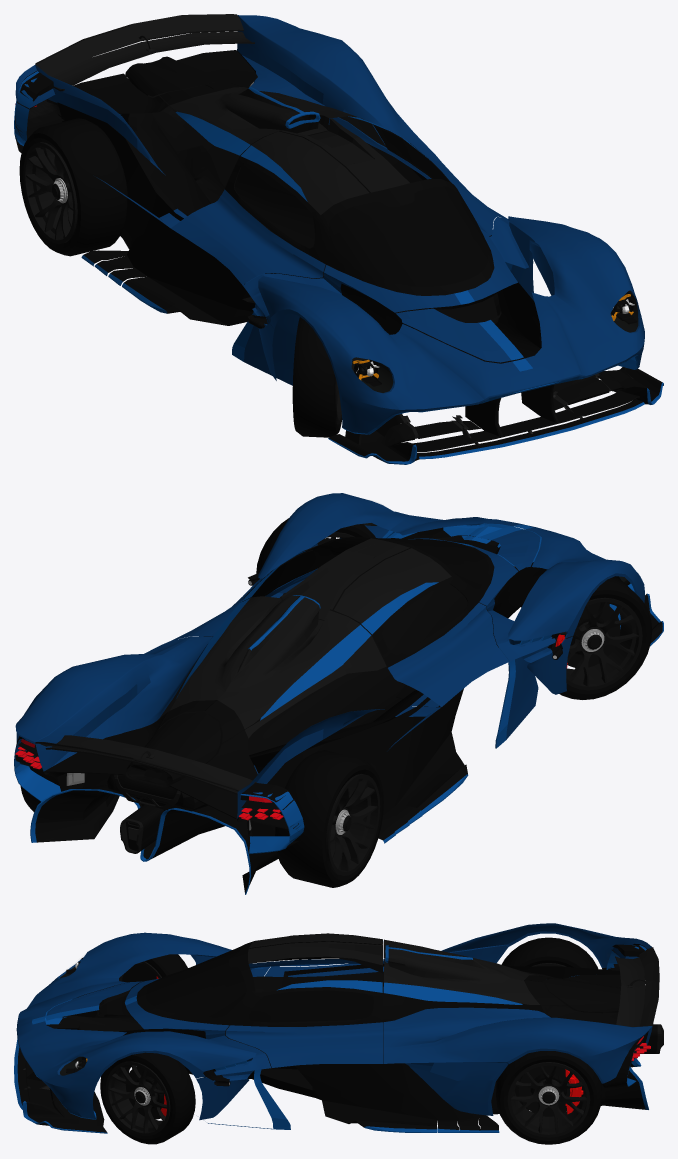
The model's file is aston_martin_valkyrie_free.glb.
3 renders of one model, top to bottom at view 1: azimuth 30°, elevation 25°; view 2: azimuth 150°, elevation 25°; view 3: azimuth 270°, elevation 25°, orthographic. The views are drawn at different scales.
Visible parts, largest first — view 1: Body, Plane.011, Plane.047, Plane.003, RearLeftWheel, Plane.027, Plane.114, Plane.025, Plane.084, Plane.005, Plane.008, Plane.015 (+19 smaller); view 2: Plane.011, Body, Plane.003, Plane.005, Plane.114, RearLeftWheel, Plane.025, Plane.007, Plane.015, Plane.027, Plane.047, Plane.014 (+22 smaller); view 3: Body, Plane.011, Plane.003, Plane.047, Plane.005, Plane.023, Plane.114, Plane.084, FrontRightWheel, Plane.022, RearRightWheel, Plane.027 (+23 smaller).
Part boxes in pixels (box(x1,y1,x2,y2)): Body: box(243, 216, 644, 433); Plane.011: box(57, 81, 541, 363); Plane.047: box(329, 130, 488, 286); Plane.003: box(237, 15, 441, 161); RearLeftWheel: box(19, 118, 127, 256); Plane.027: box(35, 14, 254, 91); Plane.114: box(14, 71, 663, 464); Plane.025: box(171, 189, 325, 285); Plane.084: box(225, 124, 494, 295); Plane.005: box(170, 87, 358, 144); Plane.008: box(329, 367, 662, 461); Plane.015: box(251, 131, 369, 214); Plane.011: box(35, 527, 546, 892); Body: box(243, 493, 644, 694); Plane.003: box(15, 636, 212, 771); Plane.005: box(170, 595, 360, 728); Plane.114: box(14, 524, 663, 894); RearLeftWheel: box(275, 750, 383, 887); Plane.025: box(388, 603, 509, 706); Plane.007: box(107, 712, 220, 811); Plane.015: box(334, 548, 451, 623); Plane.027: box(35, 735, 256, 794); Plane.047: box(242, 537, 488, 601); Plane.014: box(280, 538, 409, 619); Body: box(16, 932, 271, 1120); Plane.011: box(61, 963, 645, 1130); Plane.003: box(383, 1007, 652, 1115); Plane.047: box(146, 941, 373, 1022); Plane.005: box(384, 939, 539, 1004); Plane.023: box(225, 1022, 382, 1067); Plane.114: box(14, 941, 648, 1133); Plane.084: box(136, 941, 382, 1026); FrontRightWheel: box(100, 1052, 195, 1144); Plane.022: box(383, 923, 651, 976); RearRightWheel: box(496, 1051, 601, 1144); Plane.027: box(615, 947, 659, 1026).
Size of the model in its own units: 3.36 by 1.59 by 6.65.
